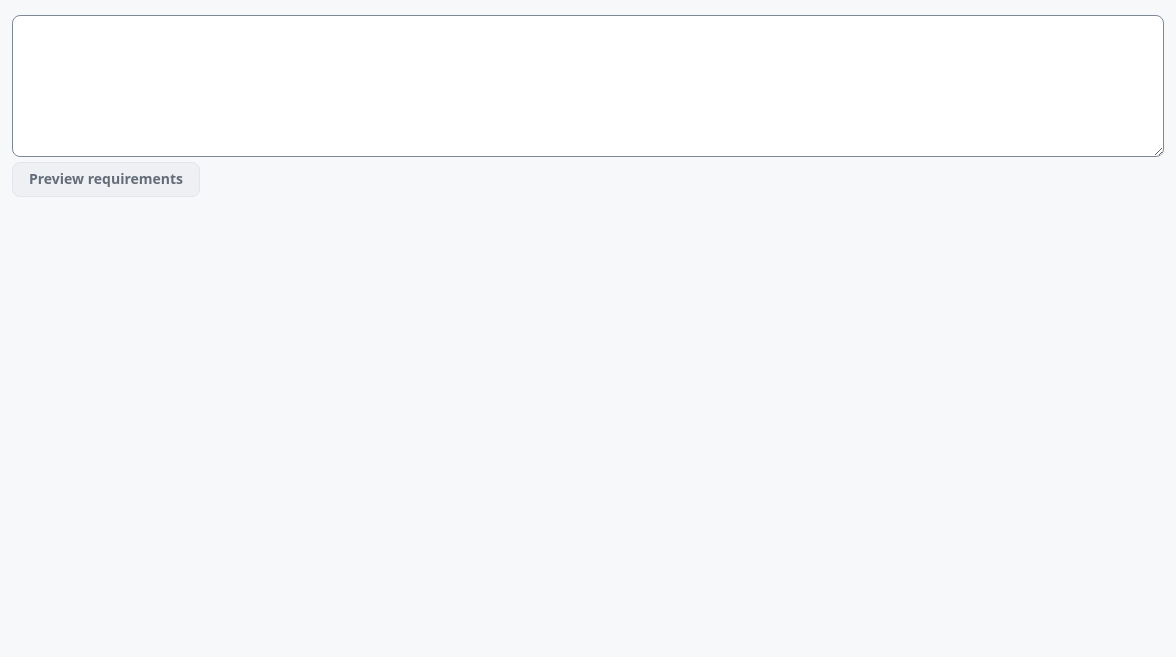
explicit requirements acceptance › keeps the candidate when the response names another project
Type "A small synthetic notes API." into the text box labelled "What do you want to build?" at (588, 86), box [12,15,1164,157]
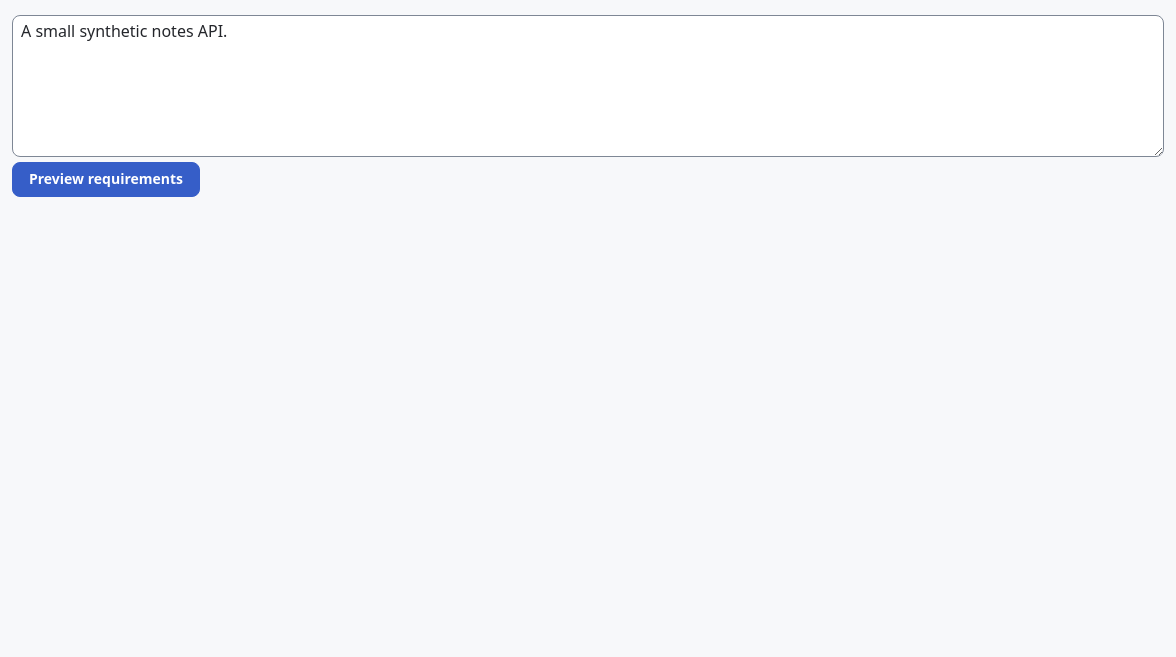
Click the button "Preview requirements" at (106, 179), box [12,162,200,197]
(page scrolled)
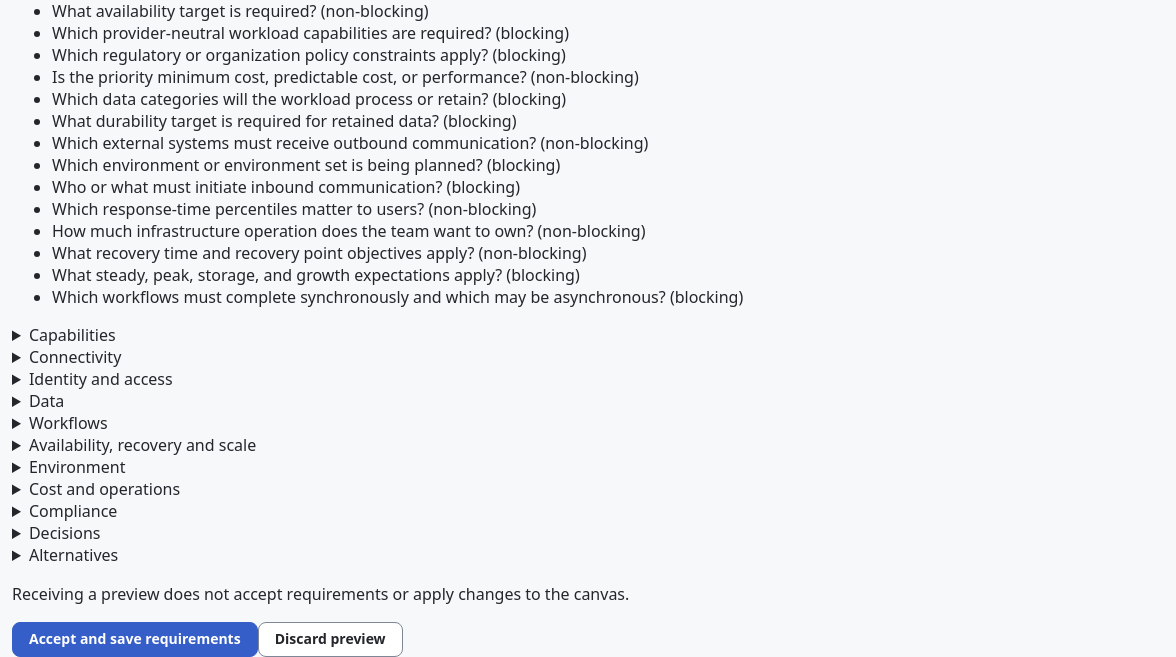
expect the button "Accept and save requirements" is enabled: met
Click the button "Accept and save requirements" at (135, 640), box [12,622,258,656]
(page scrolled)
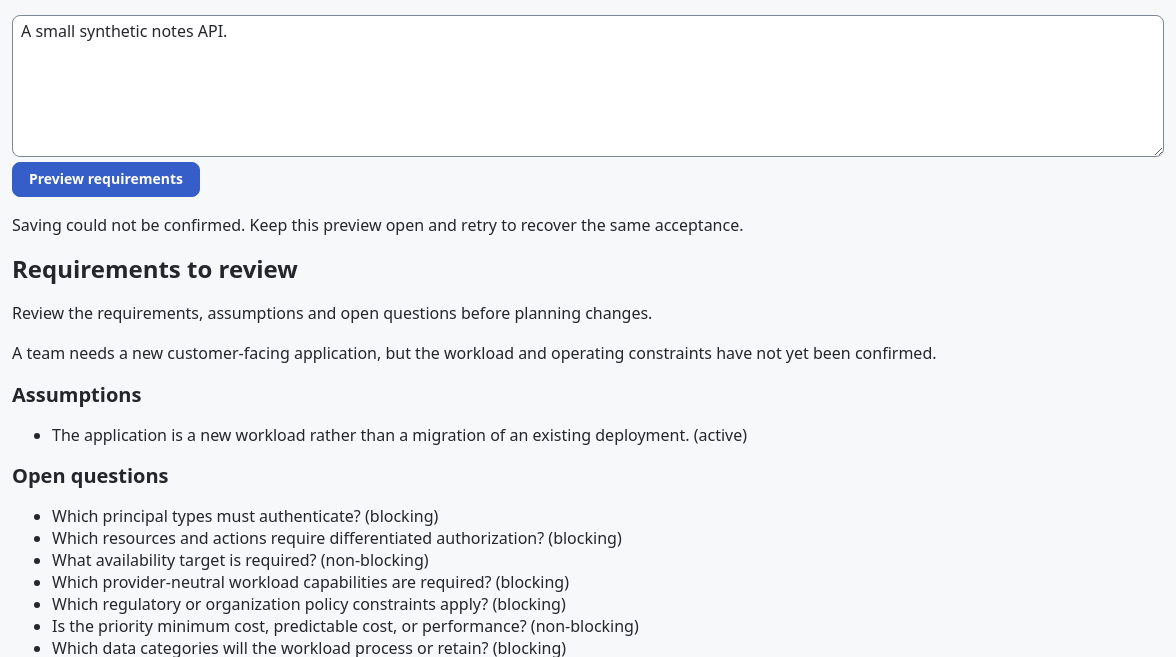
expect the heading "Requirements to review" is shown: met, box [12,252,298,285]
expect the text "Saving could not be confirmed" is shown: met, box [12,214,744,236]
